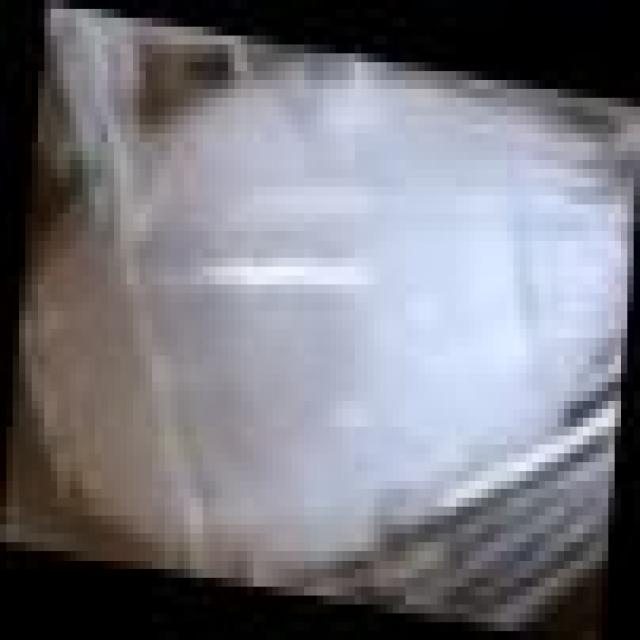Egg: (11, 49, 619, 586)
